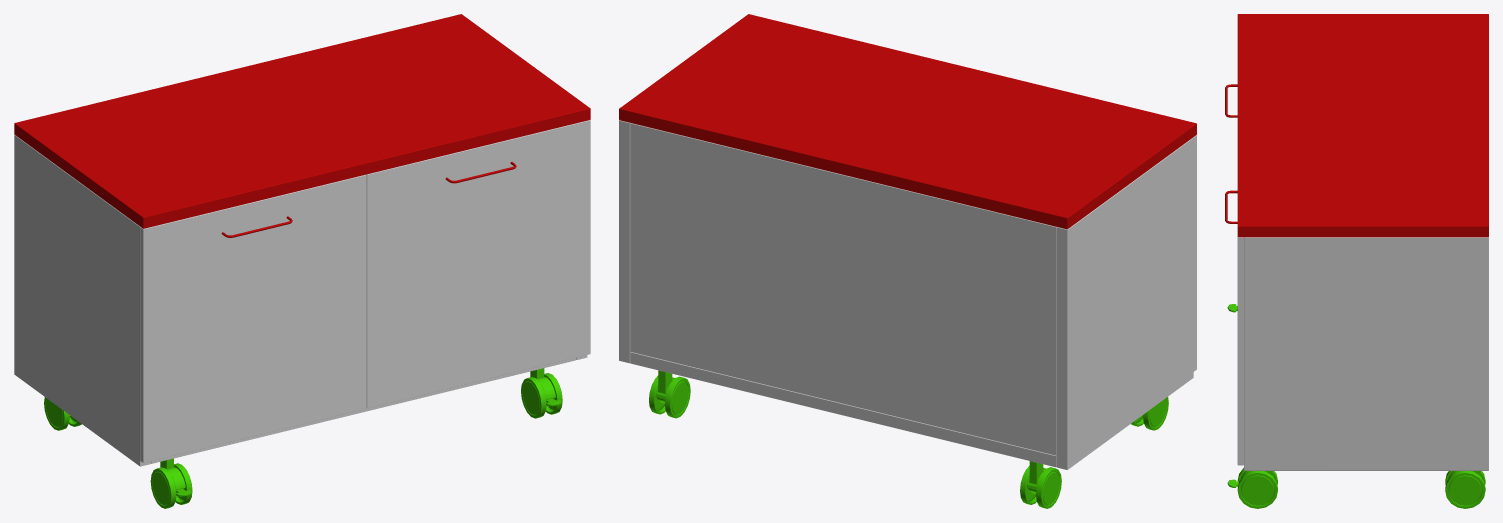
File: UnderBench02c.fbx
The picture shows the model from 3 angles, left to right: view 1: azimuth 30°, elevation 25°; view 2: azimuth 150°, elevation 25°; view 3: azimuth 270°, elevation 25°; orthographic projection. The views are drawn at different scales.
Parts seen in each view (by area): view 1: UnderBench03c, Drawer01, Drawer02; view 2: UnderBench03c, Drawer01; view 3: UnderBench03c, Drawer02.
Part boxes in pixels (x1,y1,x2,y2): UnderBench03c: (14, 14, 590, 508); Drawer01: (140, 174, 366, 462); Drawer02: (366, 120, 590, 408); UnderBench03c: (619, 14, 1196, 508); Drawer01: (1193, 135, 1196, 371); UnderBench03c: (1227, 14, 1488, 508); Drawer02: (1225, 190, 1243, 465).
Bounding box in the file's own units: 100 × 52.5 × 65.
